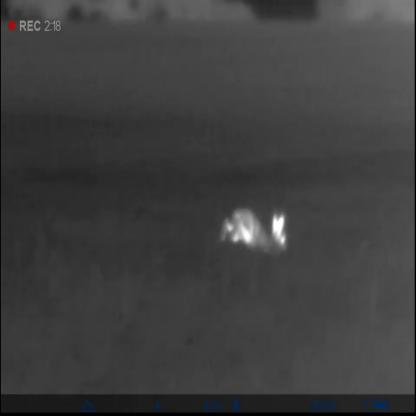rehkitze: (220, 205, 294, 261)
